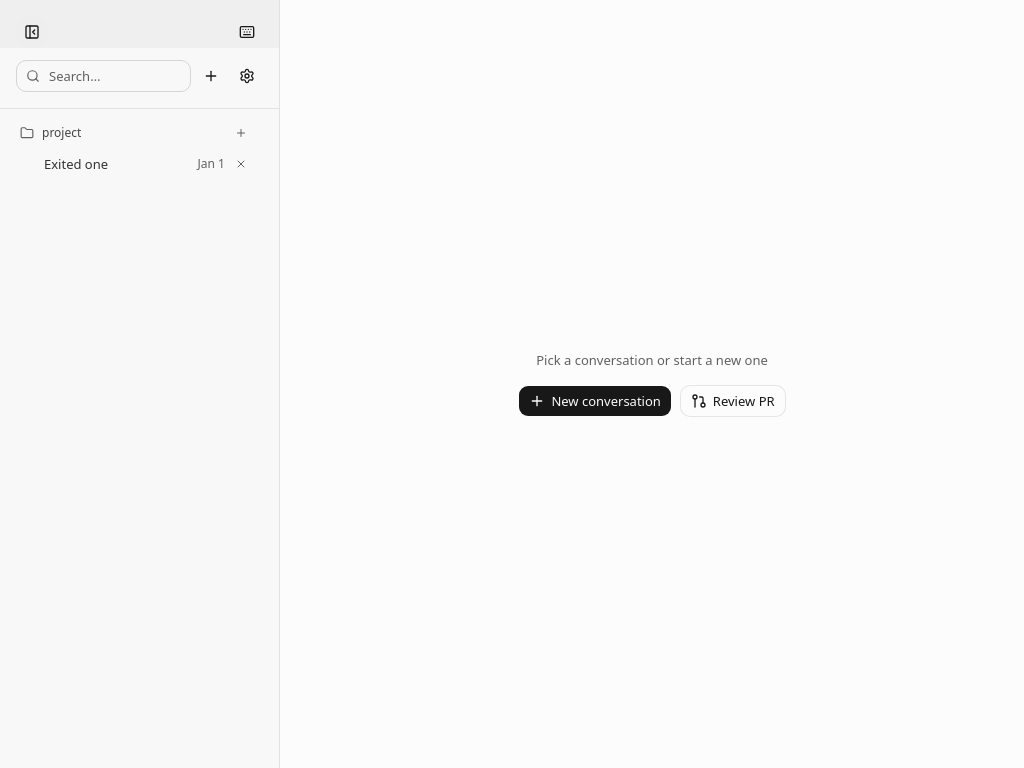
Test: Sidebar › toasts a failed restart and stays put
Expected: the navigation bar named "Conversations" is shown, [0,0,279,179]
What coordinates should you click on to do the following:
click the button "Exited one Jan 1"
I would click on:
 (120, 164)
Its box is [12,149,229,179].
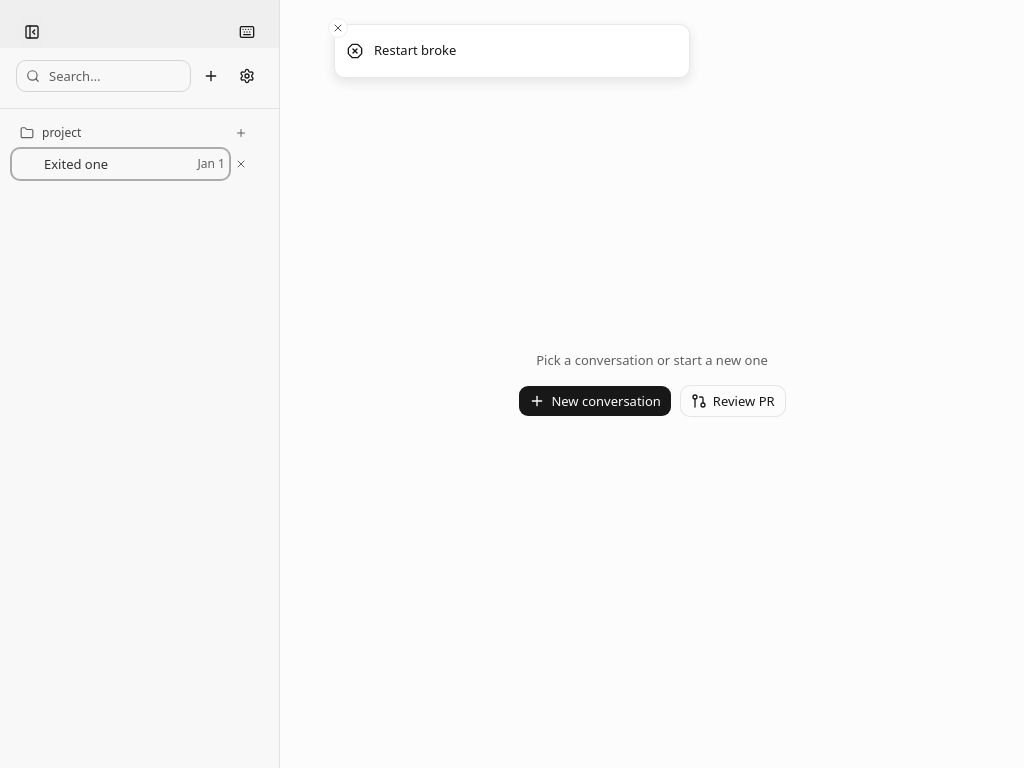
Expected: the text "Restart broke" is shown, [374,41,456,60]
